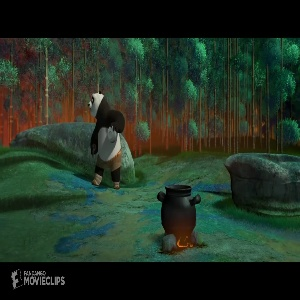po: (84, 89, 128, 193)
